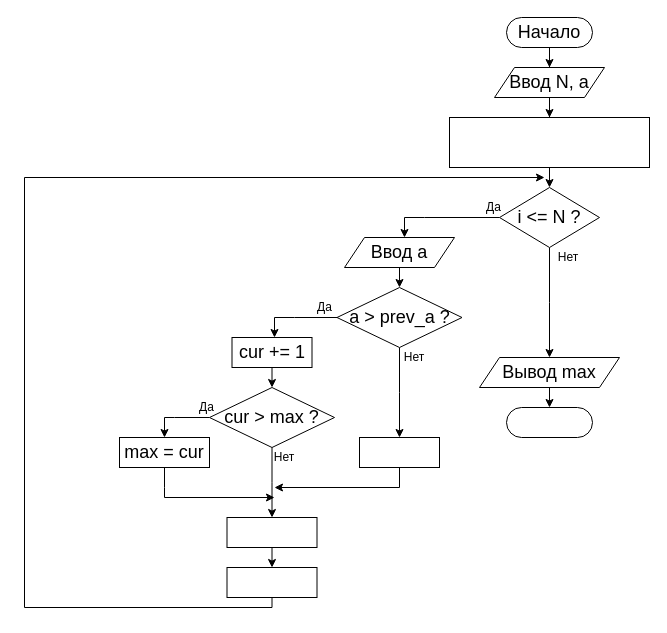
The diagram is 667 pixels wide and 633 high, and some of its shapes have lost their labels. Each missing label, with the centre of its shape:
"cur = 1" goes at (x=399, y=452).
"i += 1" goes at (x=271, y=582).
"max = 1, cur = 1, i = 1 prev_a = a" goes at (x=549, y=142).
"prev_a = a" goes at (x=271, y=532).
"Конец" goes at (x=549, y=422).
